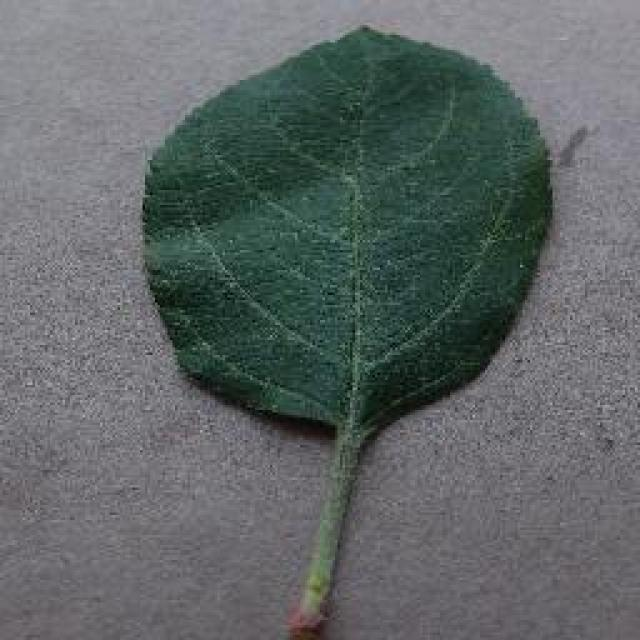apple healthy: (135, 20, 555, 638)
